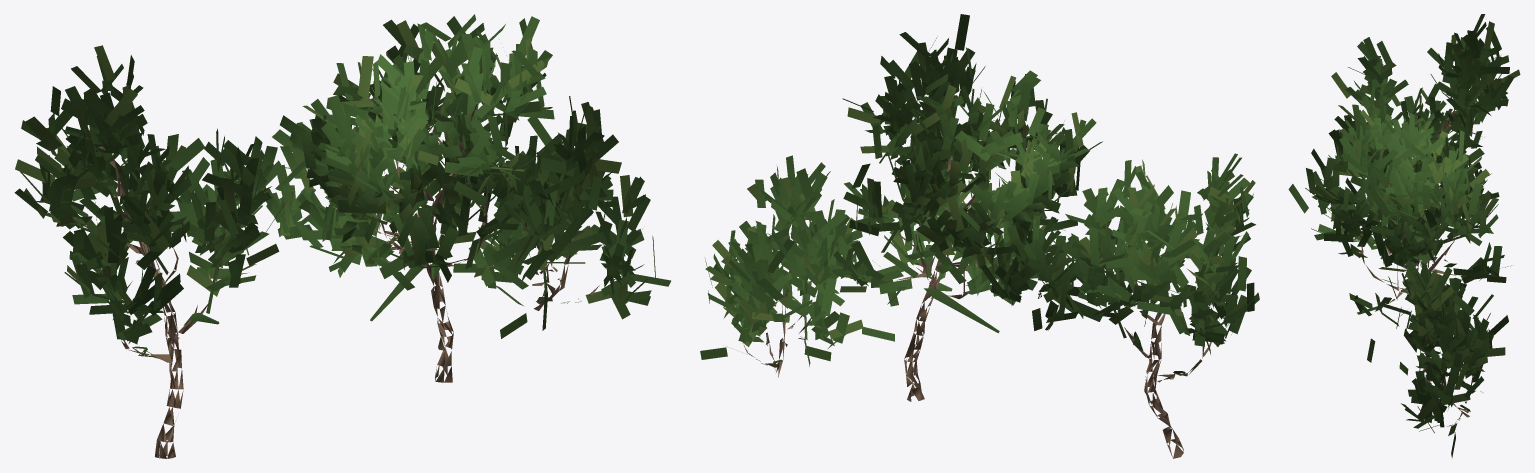
The model's file is arvores_trio.glb.
3 views of the same model, side by side, from view 1: azimuth 30°, elevation 25°; view 2: azimuth 150°, elevation 25°; view 3: azimuth 270°, elevation 25° (orthographic). The views are drawn at different scales.
Parts seen in each view (by area): view 1: arvores_trio; view 2: arvores_trio; view 3: arvores_trio.
Boxes of the visible parts, x1,y1,x2,y2 form: arvores_trio: (14, 14, 670, 458); arvores_trio: (700, 14, 1259, 458); arvores_trio: (1288, 14, 1520, 458).
Bounding box in the file's own units: 2.95 × 1.81 × 1.35.
